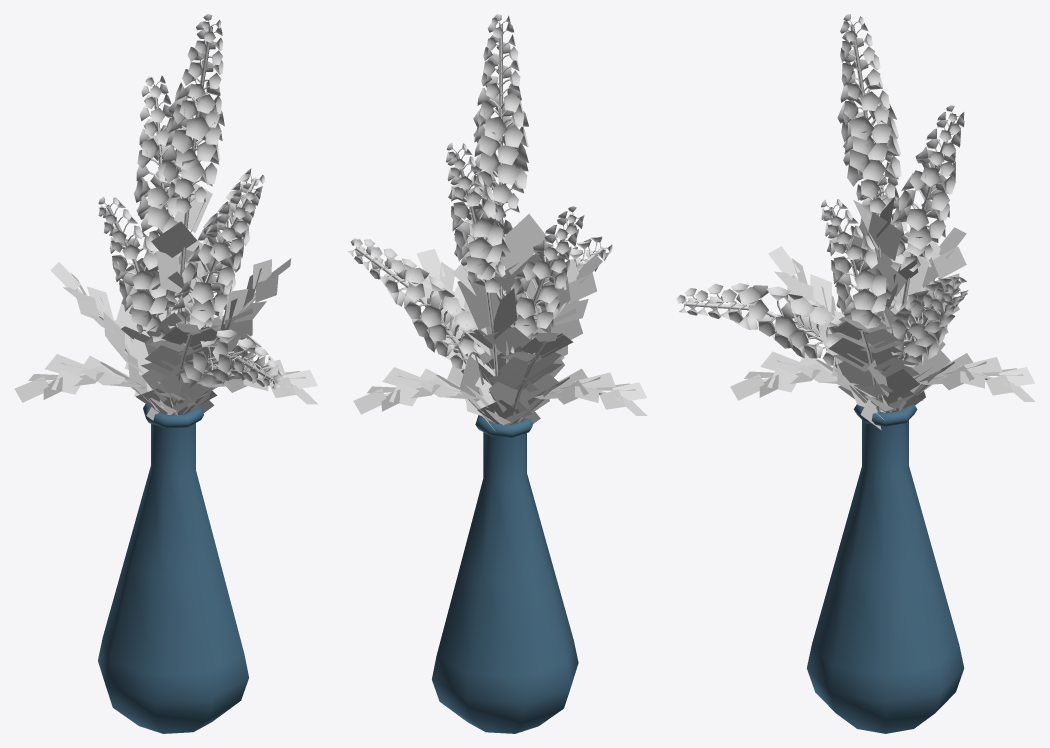
Rendered from a_com_house_a01_plant01_blue.gltf.
3 renders of one model, left to right at view 1: azimuth 30°, elevation 25°; view 2: azimuth 150°, elevation 25°; view 3: azimuth 270°, elevation 25°, orthographic. The views are drawn at different scales.
Parts seen in each view (by area): view 1: um_a_com_house_a01_plant01_model_a_com_house_a01_plant01_mod (×2); view 2: um_a_com_house_a01_plant01_model_a_com_house_a01_plant01_mod (×2); view 3: um_a_com_house_a01_plant01_model_a_com_house_a01_plant01_mod (×2).
Boxes of the visible parts, x1,y1,x2,y2 form: um_a_com_house_a01_plant01_model_a_com_house_a01_plant01_mod (×2): (14, 14, 318, 733); um_a_com_house_a01_plant01_model_a_com_house_a01_plant01_mod (×2): (347, 14, 647, 733); um_a_com_house_a01_plant01_model_a_com_house_a01_plant01_mod (×2): (676, 14, 1035, 733).
Size of the model in its own units: 0.3854 by 0.9504 by 0.4352.
2 materials, 1 textured.
